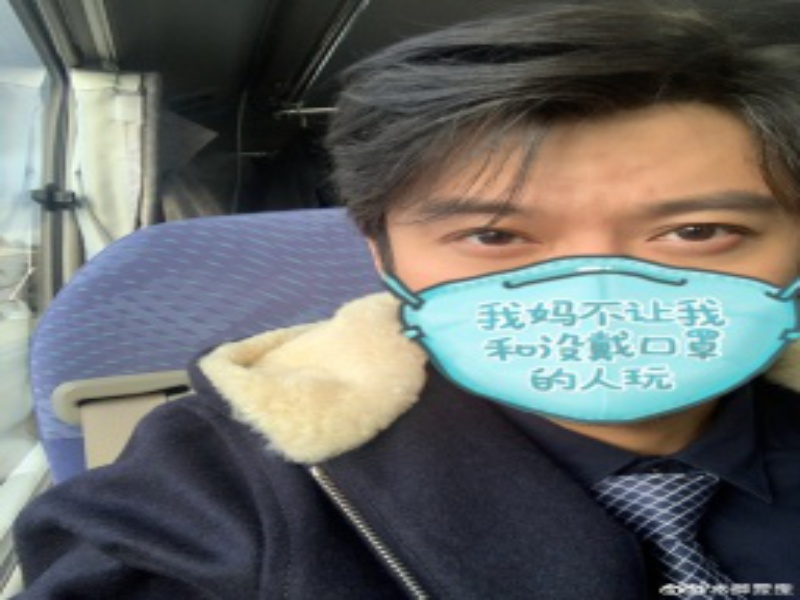ManaoArotava: (307, 19, 800, 438)
